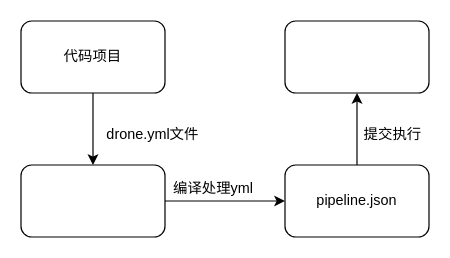
Some shapes in this 450 by 258 pixel diagram are drawn without their labels. The shapes that lost their labels are listed below. From the top down, each one's centre as x and y in pixels, then its label:
At point 356,56: "pipeline".
At point 92,200: "Drone".
